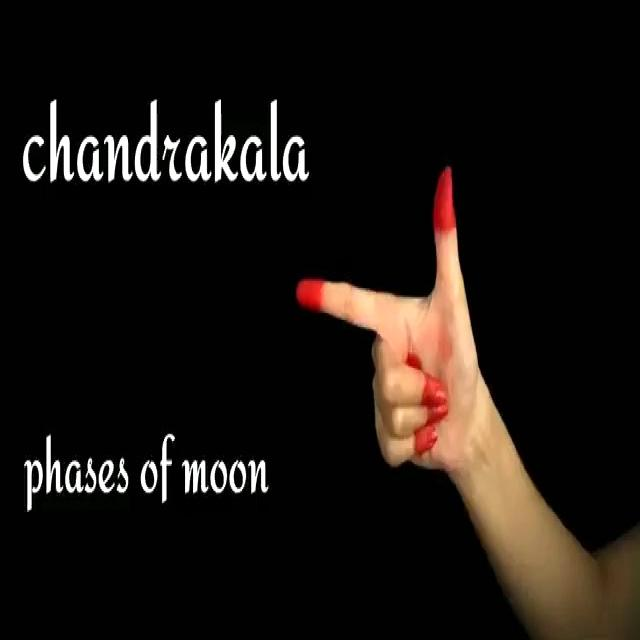Chandrakala: (292, 162, 520, 476)
text: (15, 78, 315, 200), (22, 419, 274, 515)
